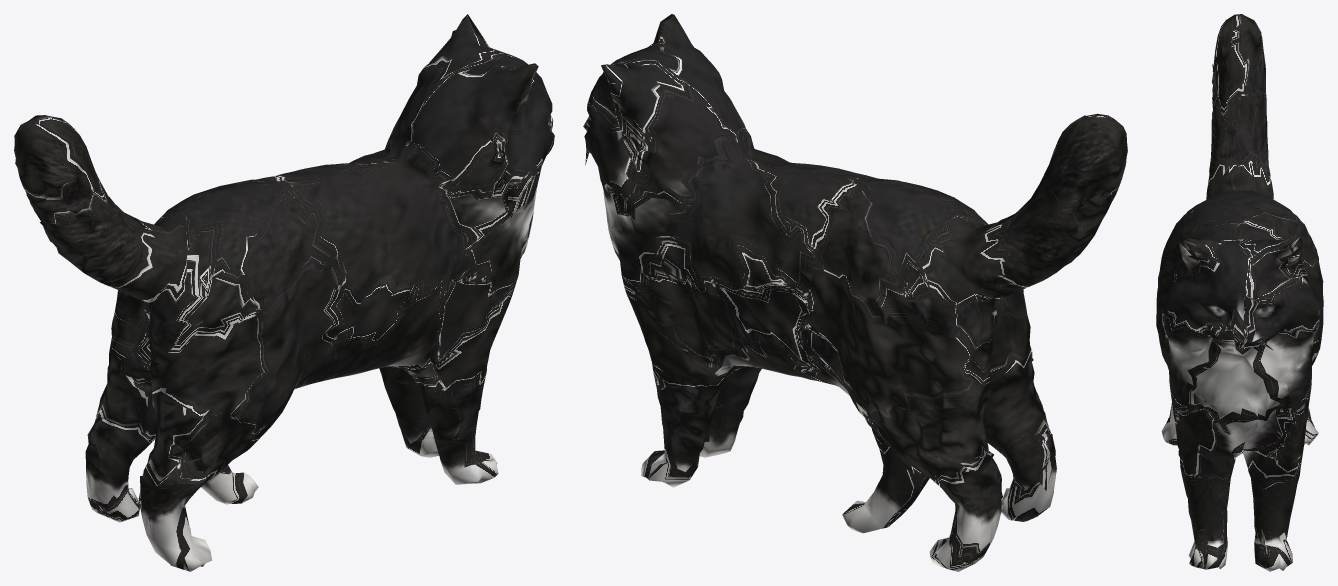
The model's file is HENRINOIR-lo.glb.
The picture shows the model from 3 angles, left to right: view 1: azimuth 30°, elevation 25°; view 2: azimuth 150°, elevation 25°; view 3: azimuth 270°, elevation 25°; orthographic projection. The views are drawn at different scales.
Parts seen in each view (by area): view 1: tripo_node_4f2776ca-067e-4a39-97cc-73b5cc3e4ea1; view 2: tripo_node_4f2776ca-067e-4a39-97cc-73b5cc3e4ea1; view 3: tripo_node_4f2776ca-067e-4a39-97cc-73b5cc3e4ea1.
Part boxes in pixels (bbox=[...]): tripo_node_4f2776ca-067e-4a39-97cc-73b5cc3e4ea1: bbox=[14, 14, 554, 571]; tripo_node_4f2776ca-067e-4a39-97cc-73b5cc3e4ea1: bbox=[583, 14, 1127, 571]; tripo_node_4f2776ca-067e-4a39-97cc-73b5cc3e4ea1: bbox=[1156, 14, 1323, 571].
Bounding box in the file's own units: 1.25 × 0.9911 × 0.3976.
1 material, 1 textured.
